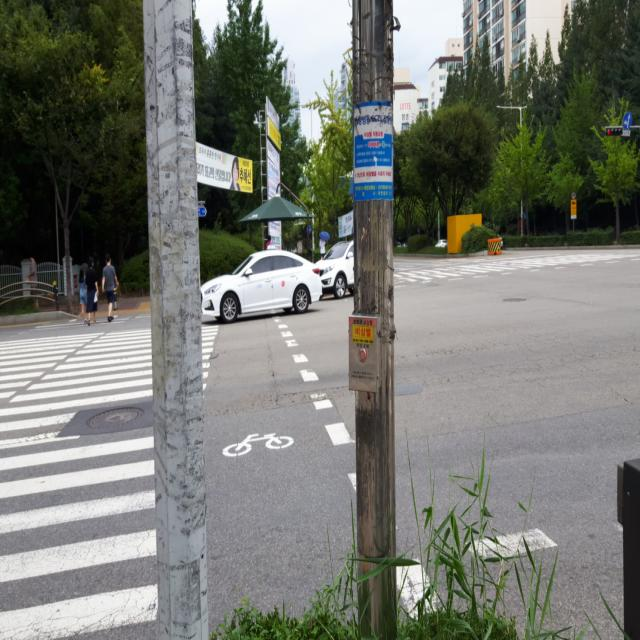횡단보도: (0, 320, 218, 640), (397, 252, 640, 282)
